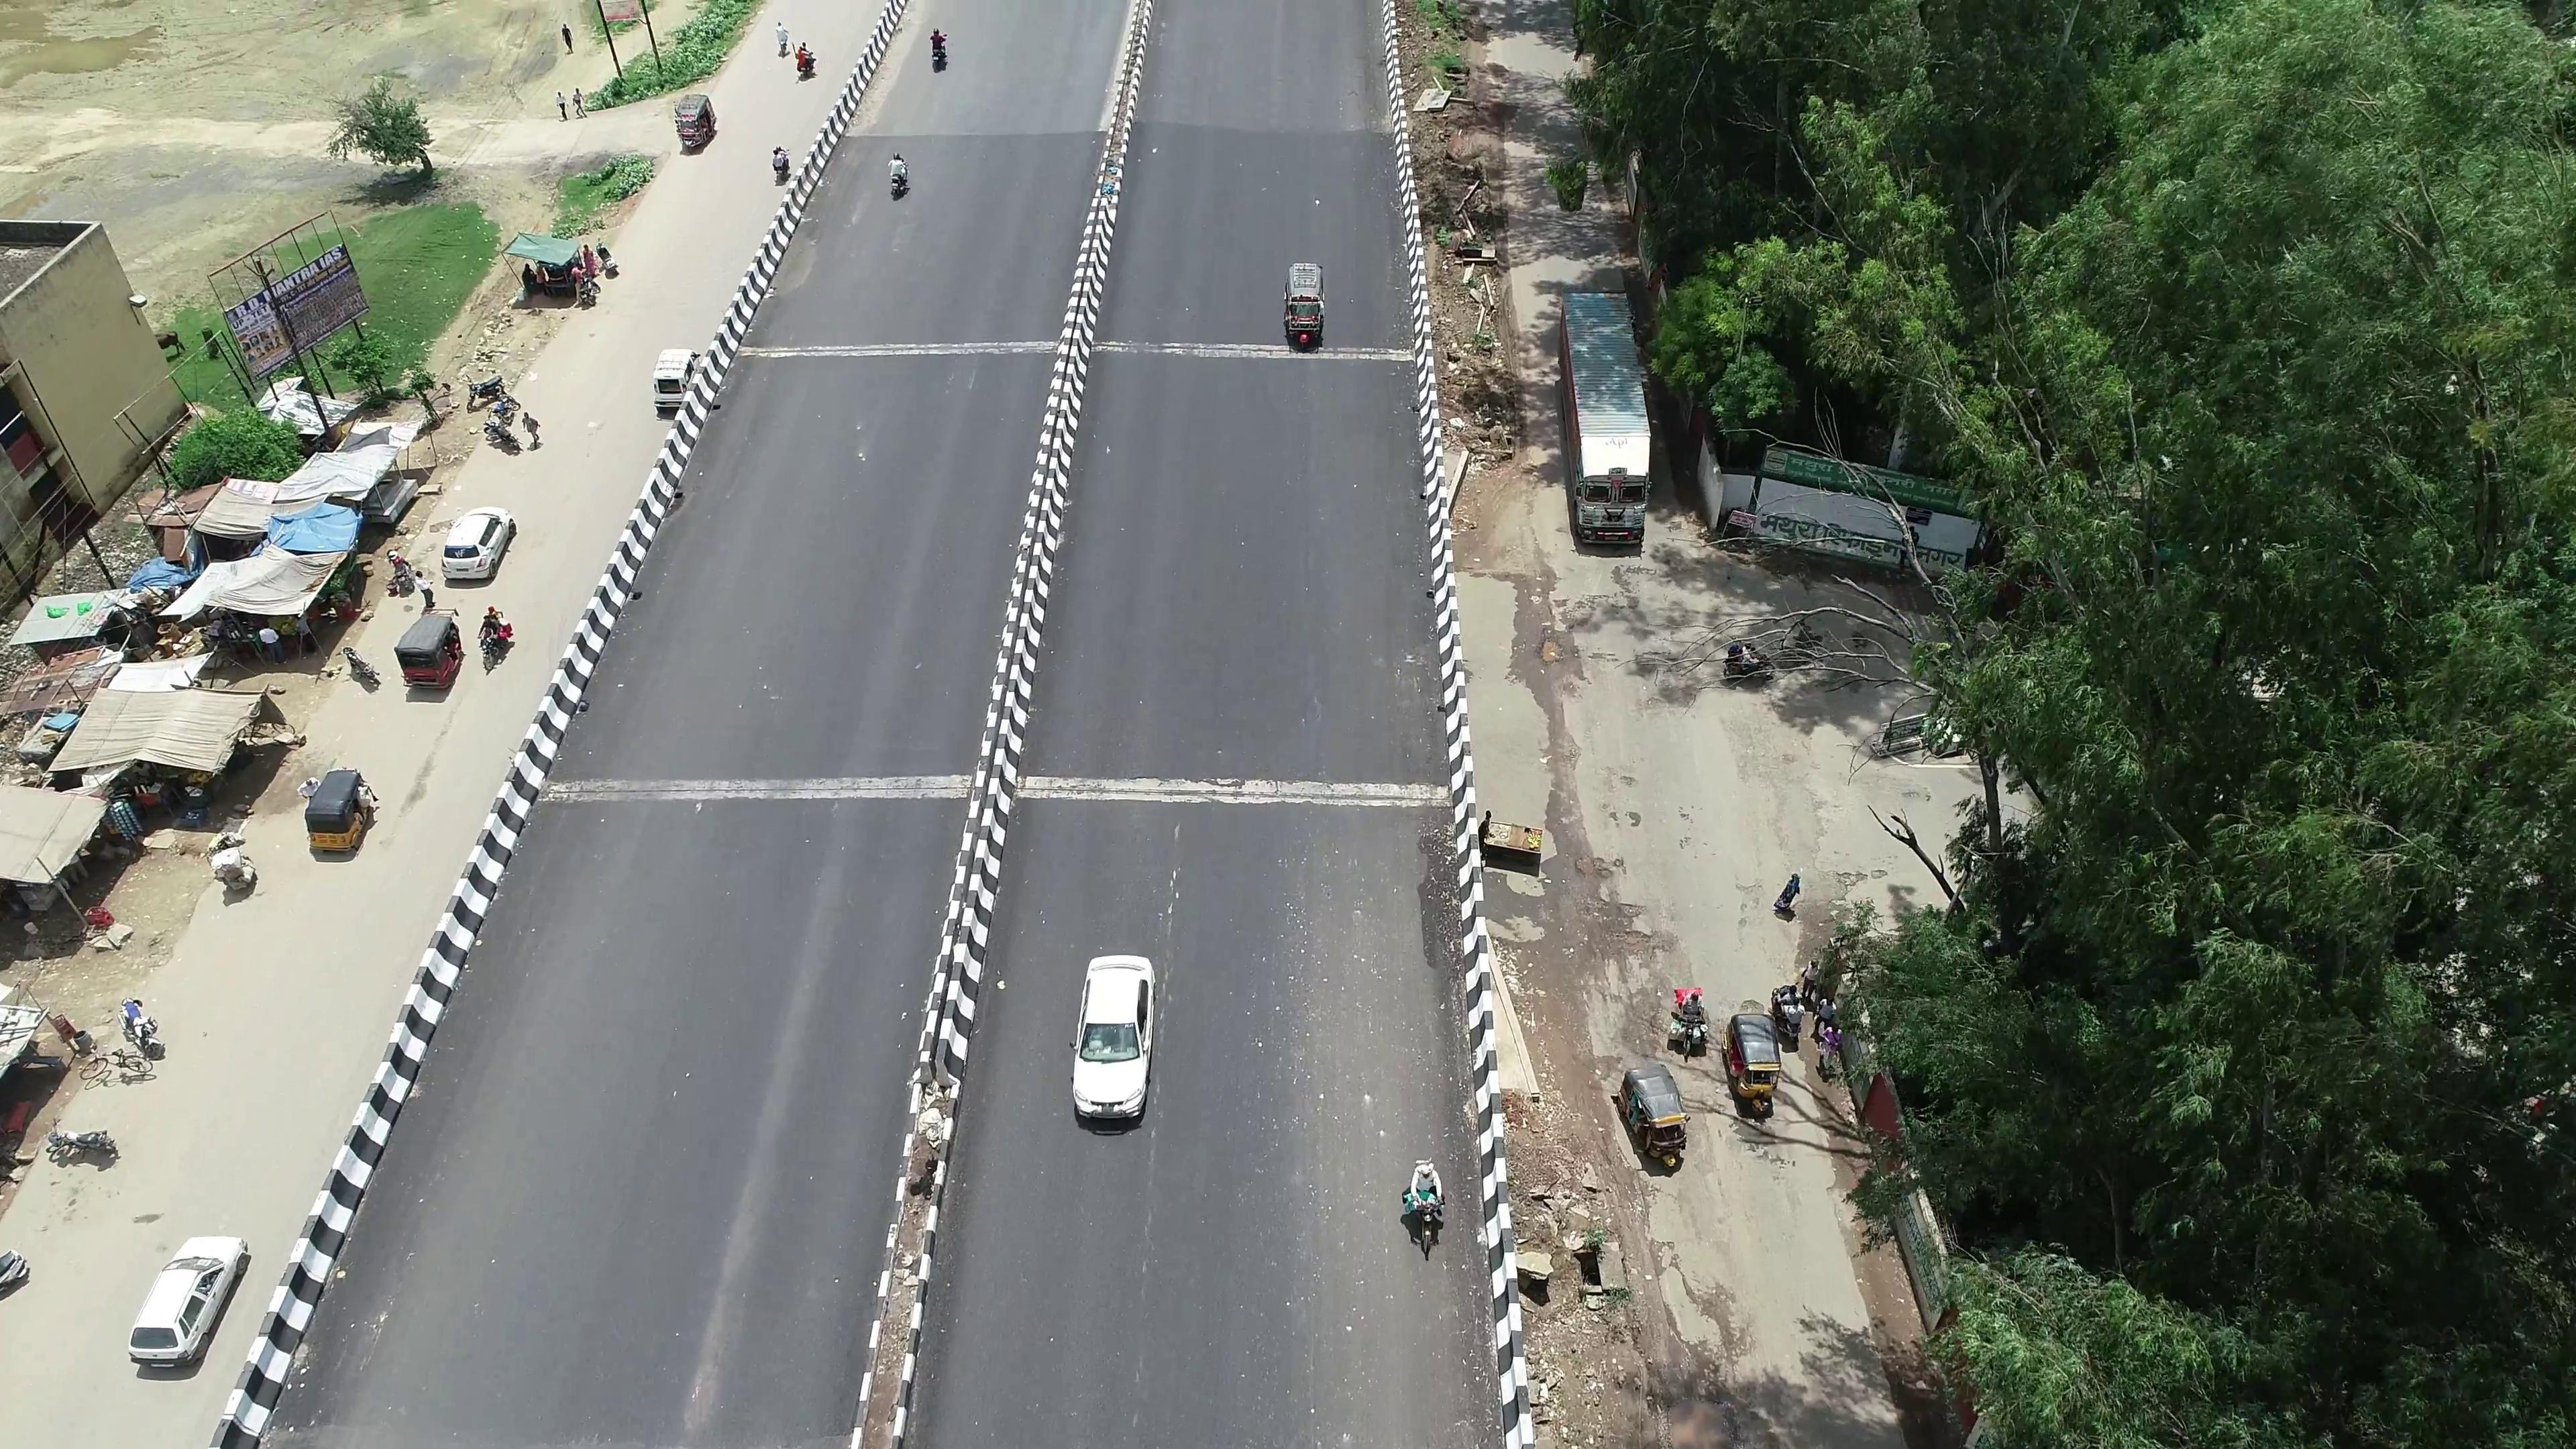Potholes: (1532, 623, 1578, 681)
